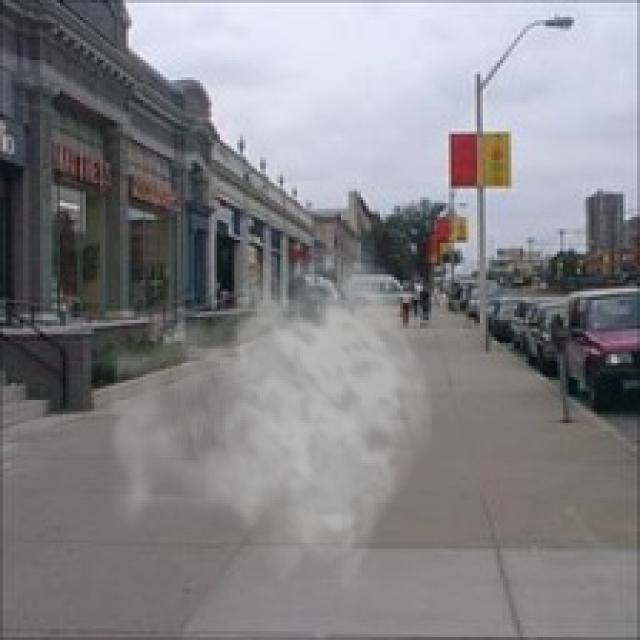Smoke: (77, 234, 434, 592)
